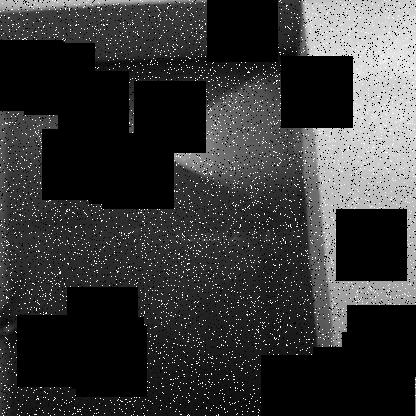Porte: (1, 0, 342, 415)
